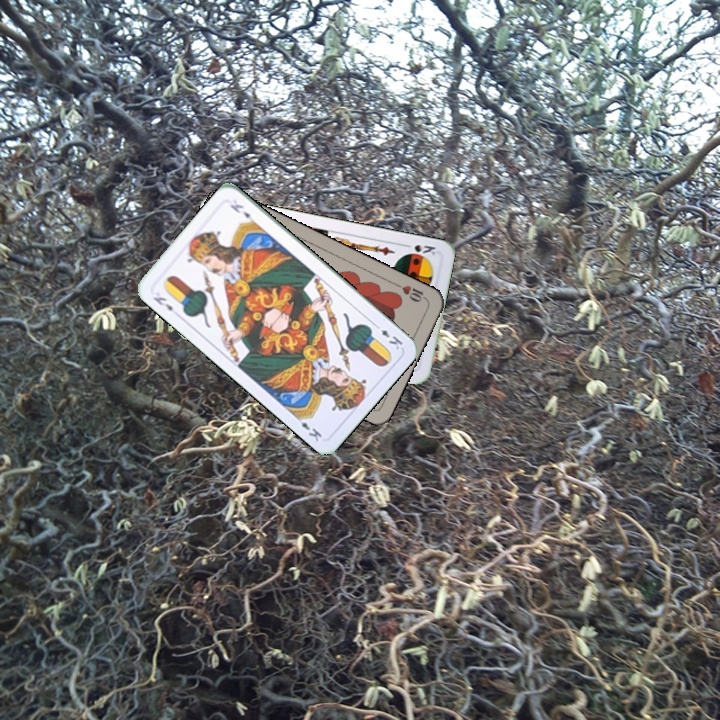EK: (370, 319, 405, 352), (149, 293, 175, 314)
H10: (392, 280, 430, 305)
SK: (399, 240, 438, 257)
